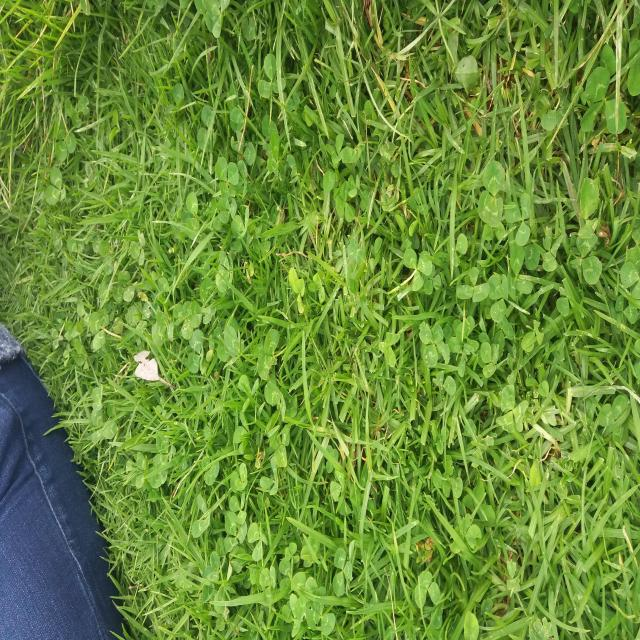Four Leaf Clover: (496, 384, 529, 432), (419, 322, 450, 368), (215, 251, 233, 292)
